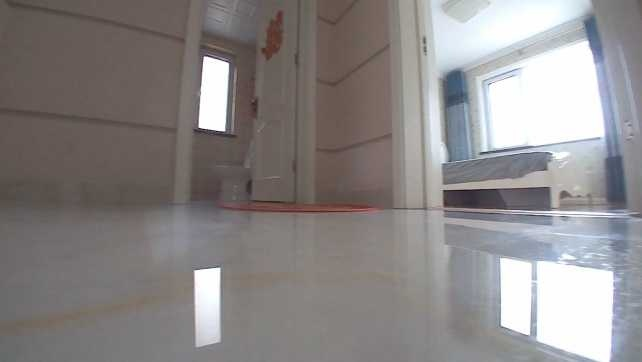bed1: (440, 142, 593, 208)
blanket: (216, 200, 381, 215)
door_anno: (250, 3, 317, 200)
toilet: (210, 142, 255, 200)
